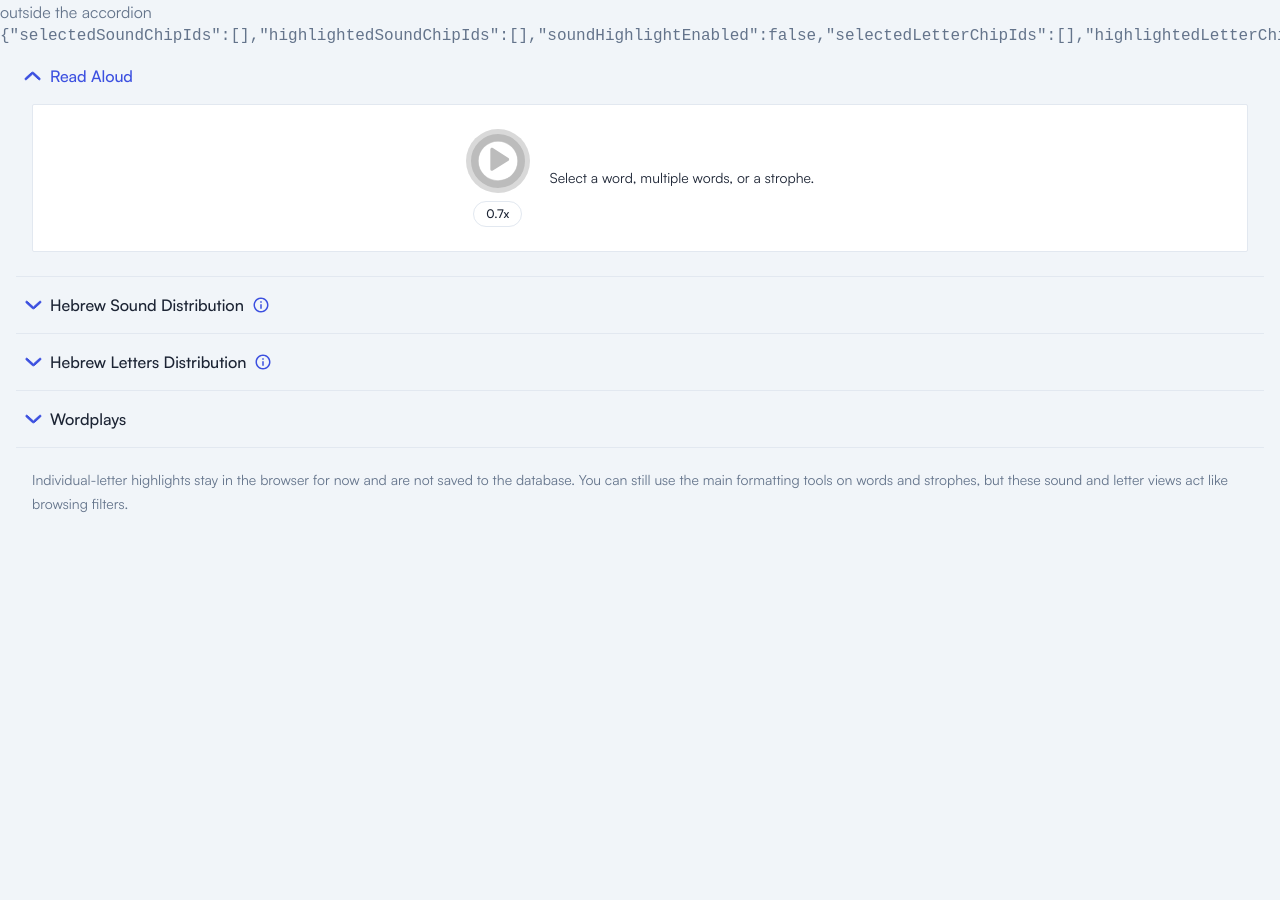
Scenario: tooltip modal — open / content / close › sound: info button opens dialog with the sound title; X closes it
Click the button named "About sound distribution" at (261, 305), box [252,296,270,314]
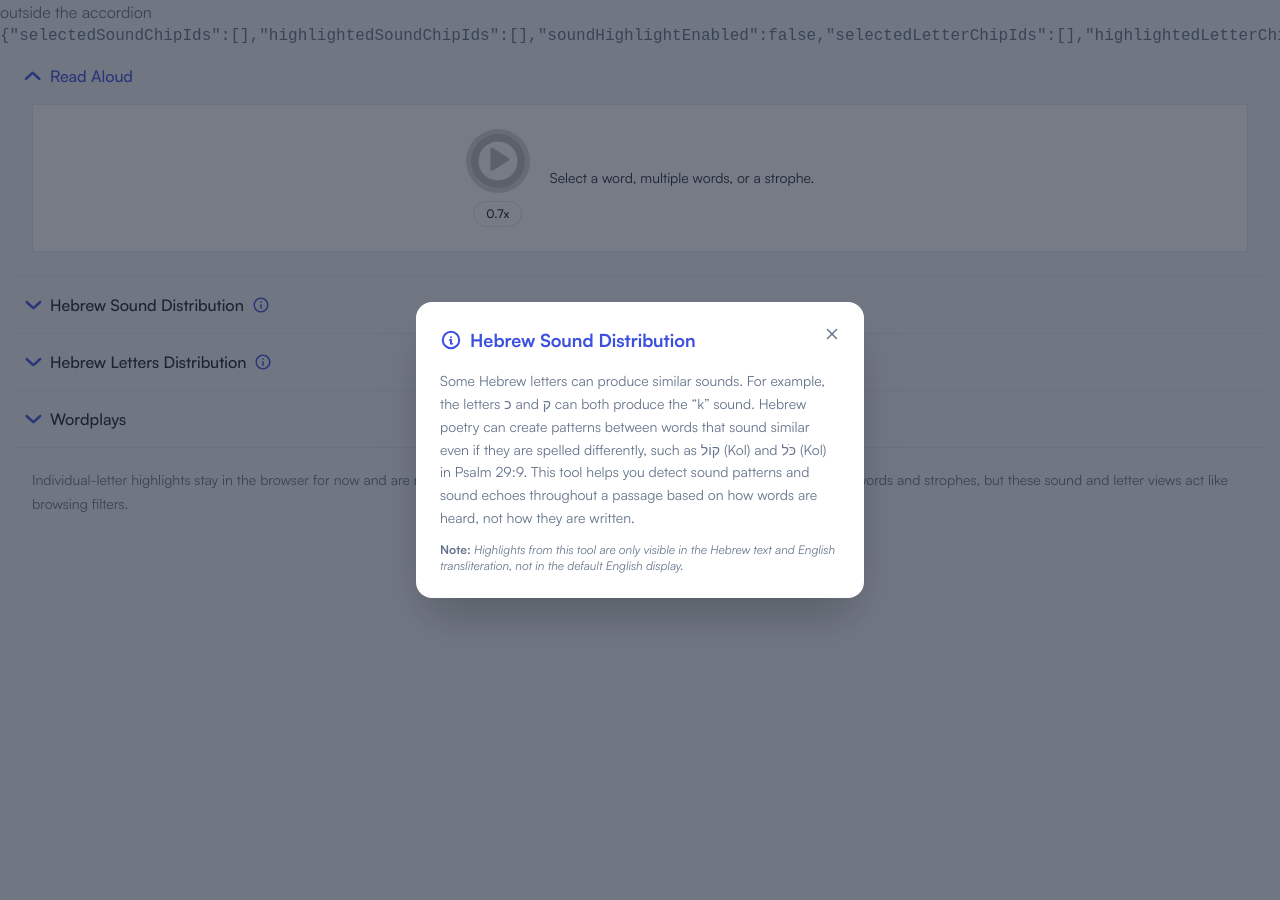
expect the heading "Hebrew Sound Distribution" is shown: met, box [470,326,696,354]
expect the text "sound patterns and sound echoes" is shown: met, box [440,372,826,526]
Click the button named "Close" at (832, 334), box [816,318,848,350]
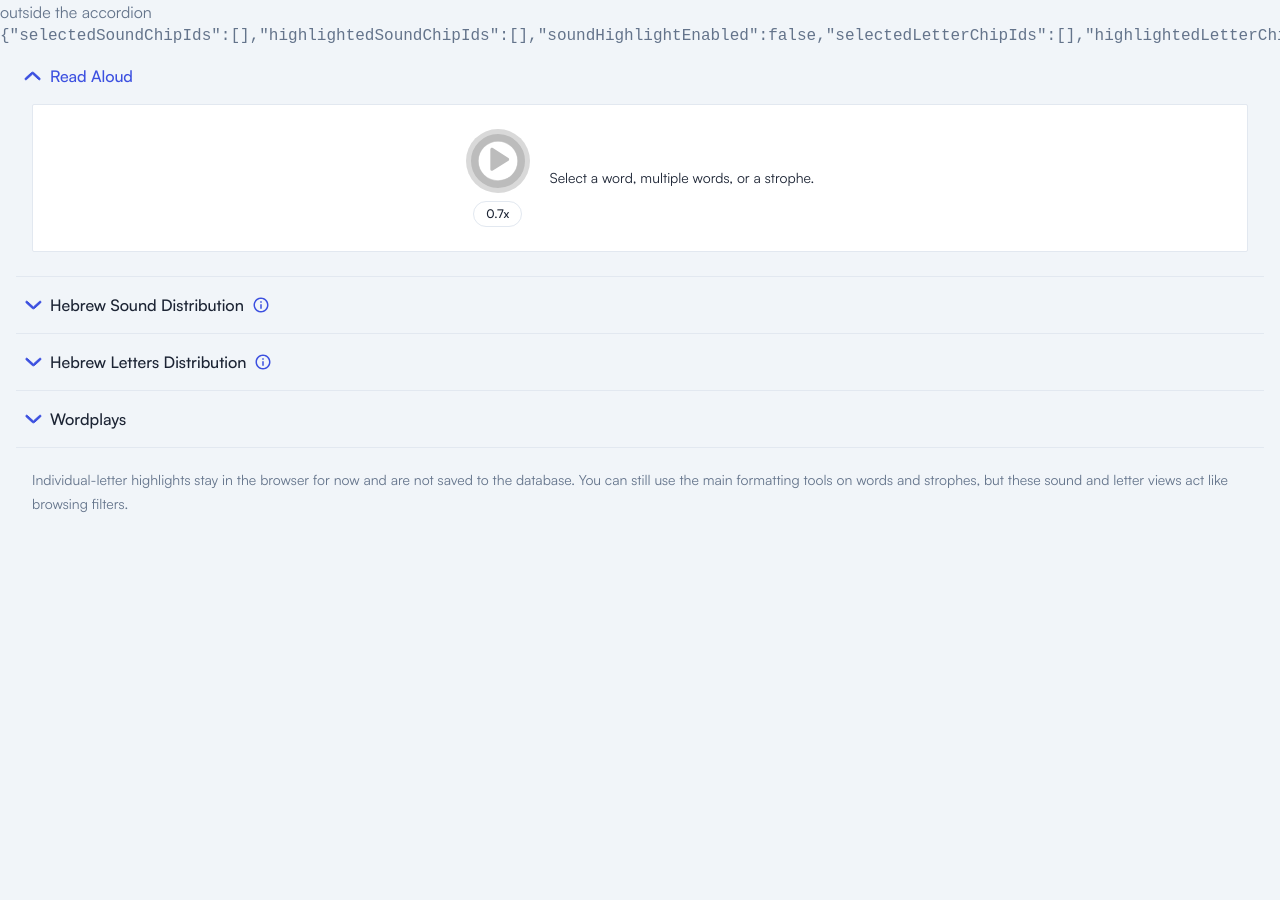
expect the dialog is gone: met
